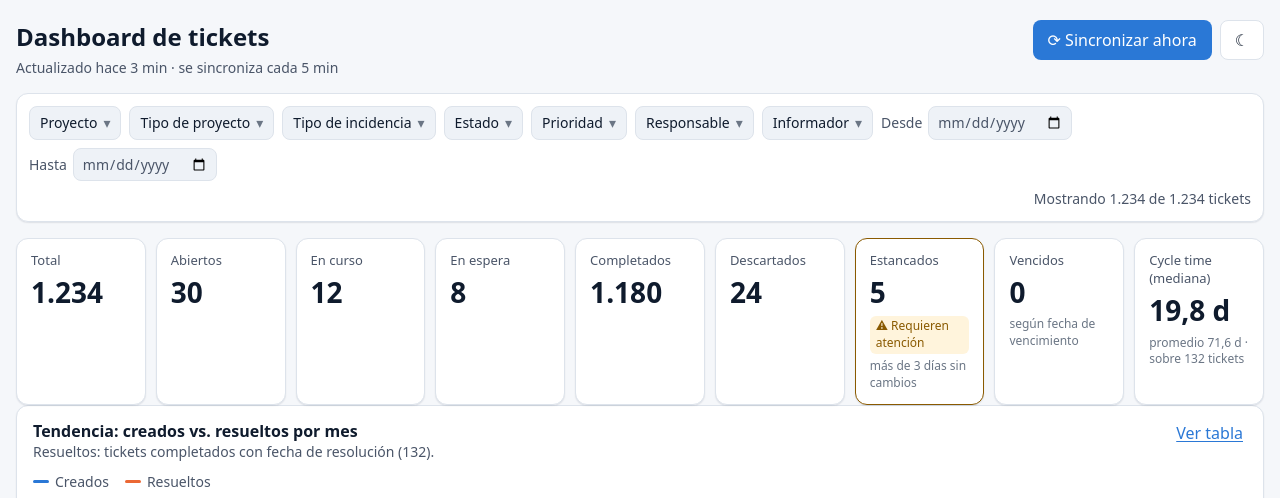
Scenario: sincronizar ahora › sincroniza, informa el resultado y recarga el dashboard
Expected: the heading "Total" is shown, [31, 251, 60, 269]
Click the button "⟳ Sincronizar ahora" at (1122,40), box [1032, 20, 1212, 60]
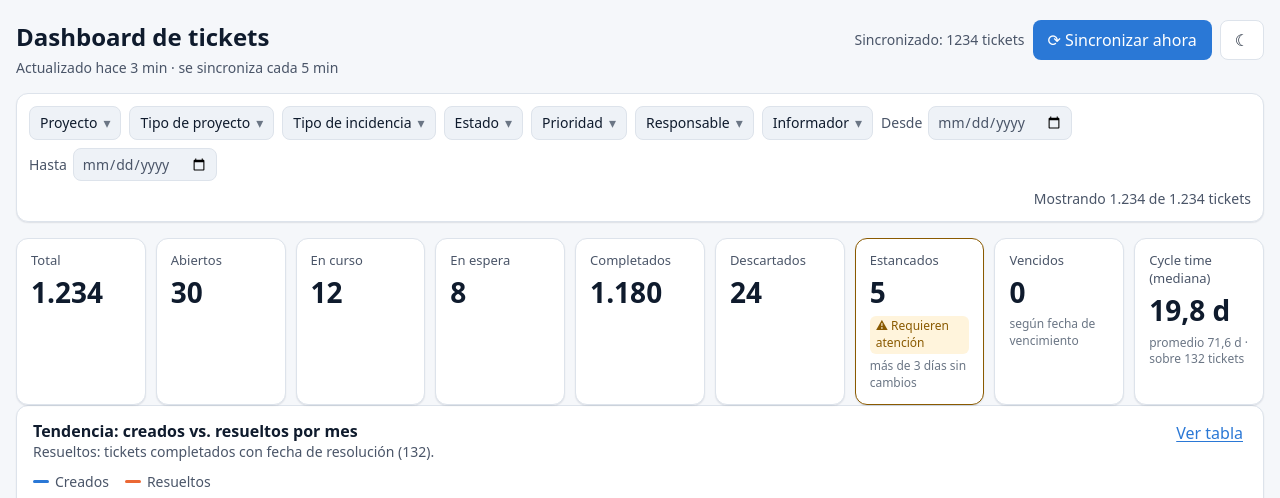
Result: the text "Sincronizado: 1234 tickets" is shown at [854, 30, 1024, 50]
